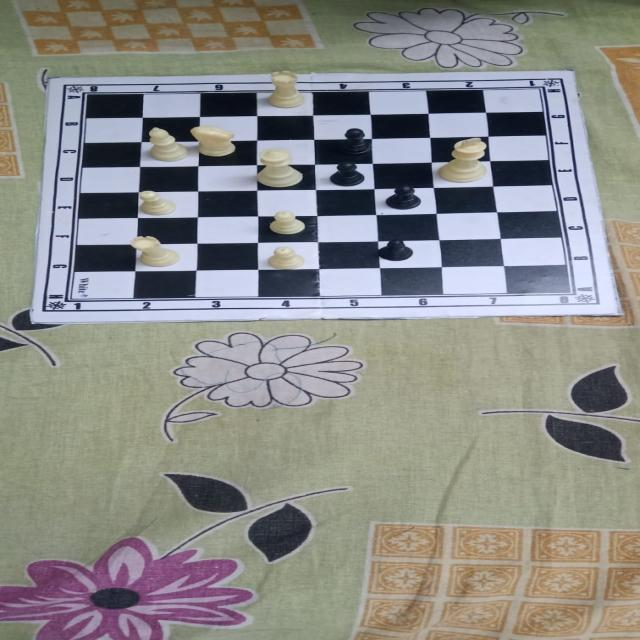corners: (17, 314, 48, 328), (39, 72, 65, 86), (605, 307, 629, 319), (556, 68, 584, 78)
